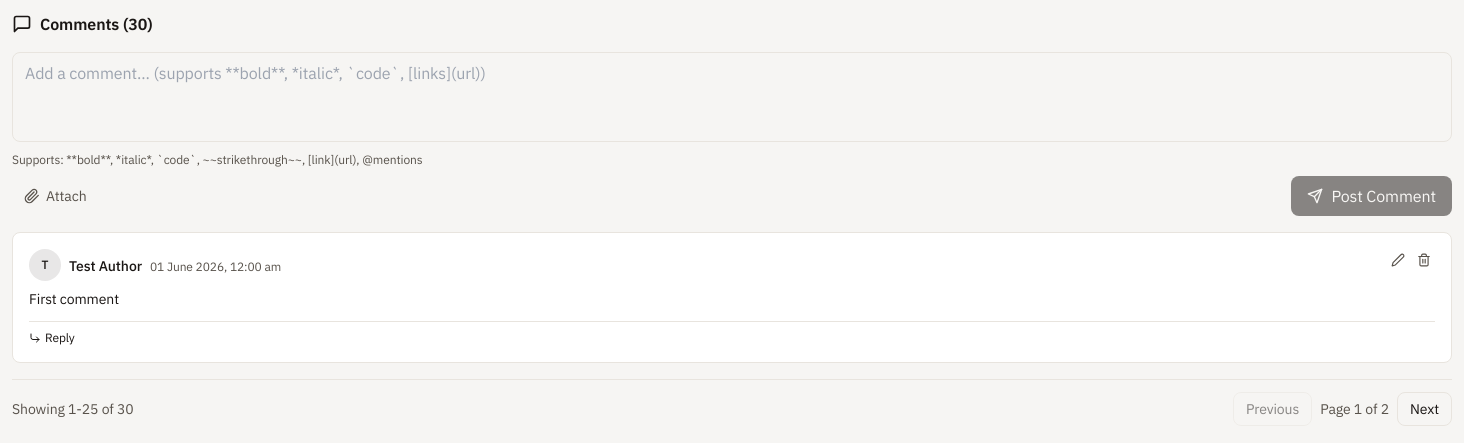
Test: CommentsSection characterization › switching entities resets pagination back to page 1
The width and height of the screenshot is (1464, 443).
Expected: the text "First comment" is shown, top-left (29, 290), bottom-right (119, 308)
What coordinates should you click on to do the following:
click the button "Next"
I would click on:
 (1424, 409)
Its box is top-left (1397, 392), bottom-right (1452, 426).
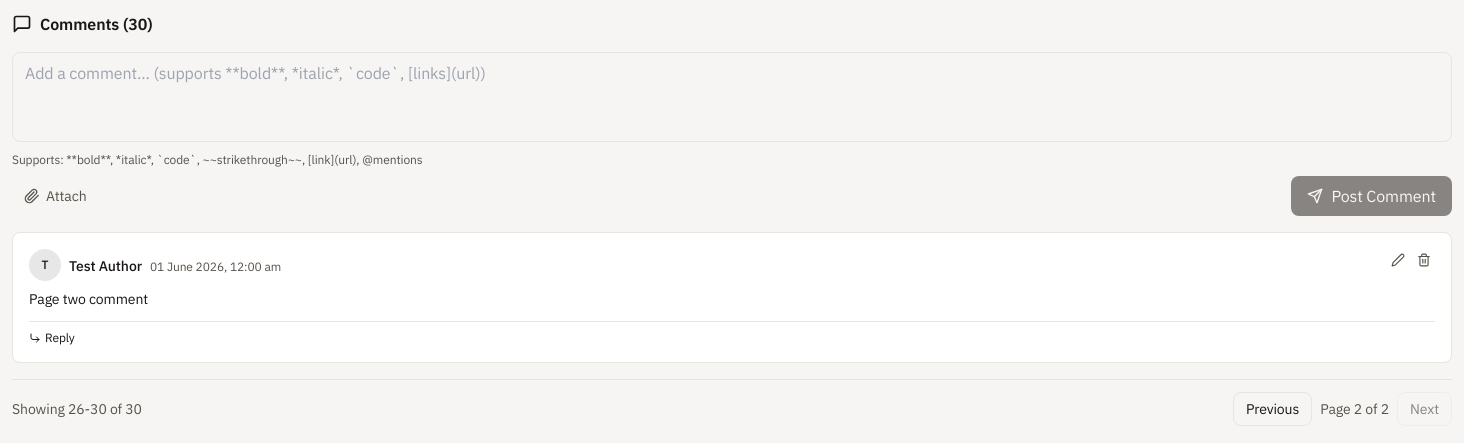
Now the text "Page two comment" is shown, box top-left (29, 290), bottom-right (148, 308)
